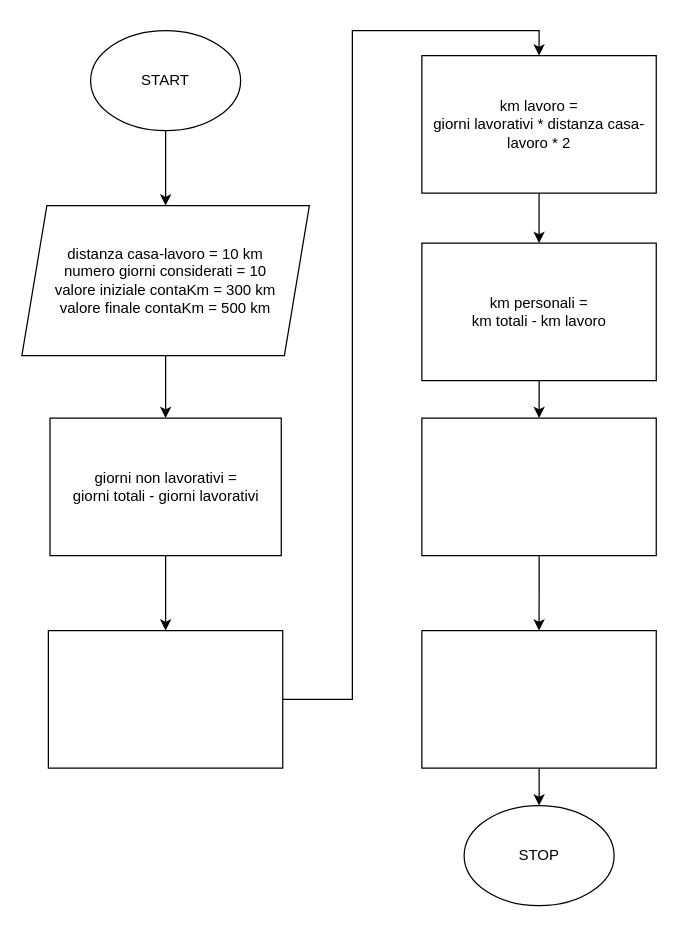
Some shapes in this 679 by 928 pixel diagram are drawn without their labels. Here are the shapes that lost their labels. From the top down, the box of each, then its label:
(421, 417, 656, 556): % uso personale = (km personali / km totali) * 100
(47, 629, 283, 768): km totali = valore finale contaKm - valore iniziale contaKm
(421, 629, 656, 768): % uso lavoro = (km lavoro / km totali) * 100
